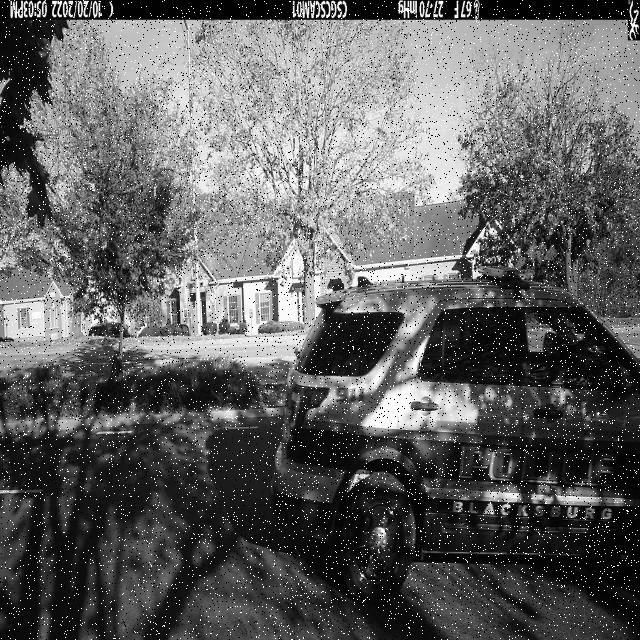SUV: (271, 263, 640, 605)
